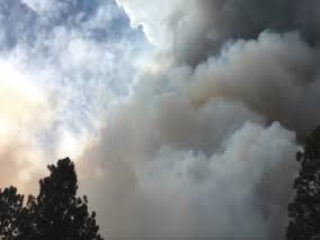smoke: (214, 28, 312, 180)
